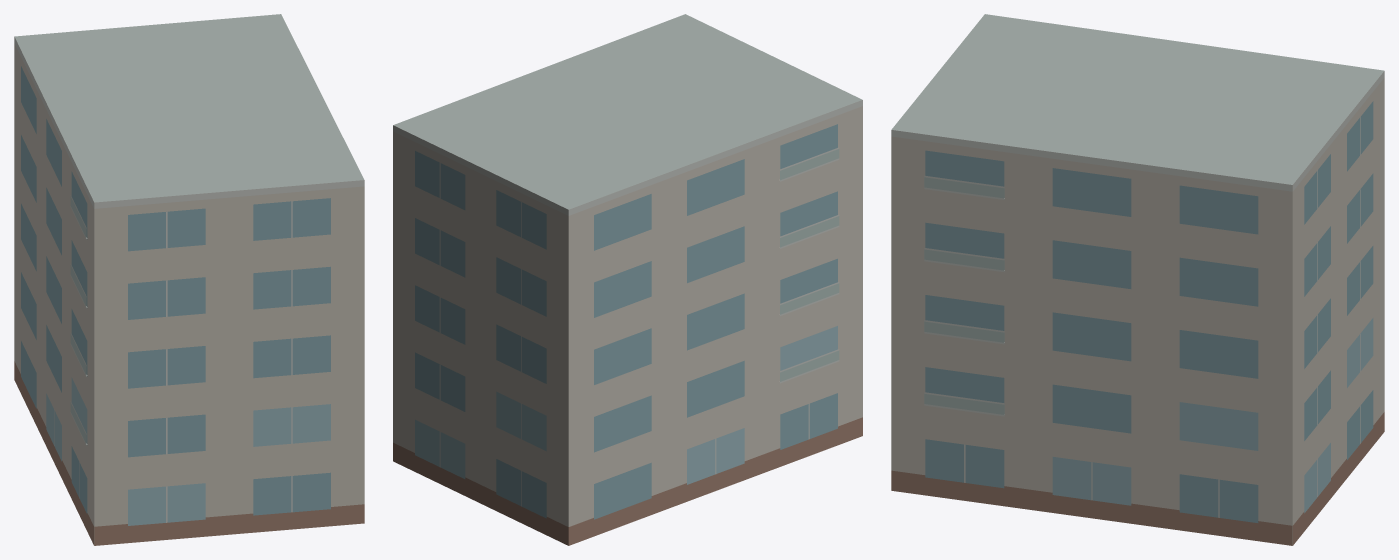
File: survey-upis-32709036.glb
The picture shows the model from 3 angles, left to right: view 1: azimuth 30°, elevation 25°; view 2: azimuth 150°, elevation 25°; view 3: azimuth 270°, elevation 25°; orthographic projection. The views are drawn at different scales.
Parts seen in each view (by area): view 1: survey-upis-32709036.tmp; view 2: survey-upis-32709036.tmp; view 3: survey-upis-32709036.tmp.
Part boxes in pixels (x1,y1,x2,y2): survey-upis-32709036.tmp: [14, 14, 364, 545]; survey-upis-32709036.tmp: [393, 14, 862, 545]; survey-upis-32709036.tmp: [891, 14, 1384, 545].
Bounding box in the file's own units: 13.42 × 13.2 × 16.37.
